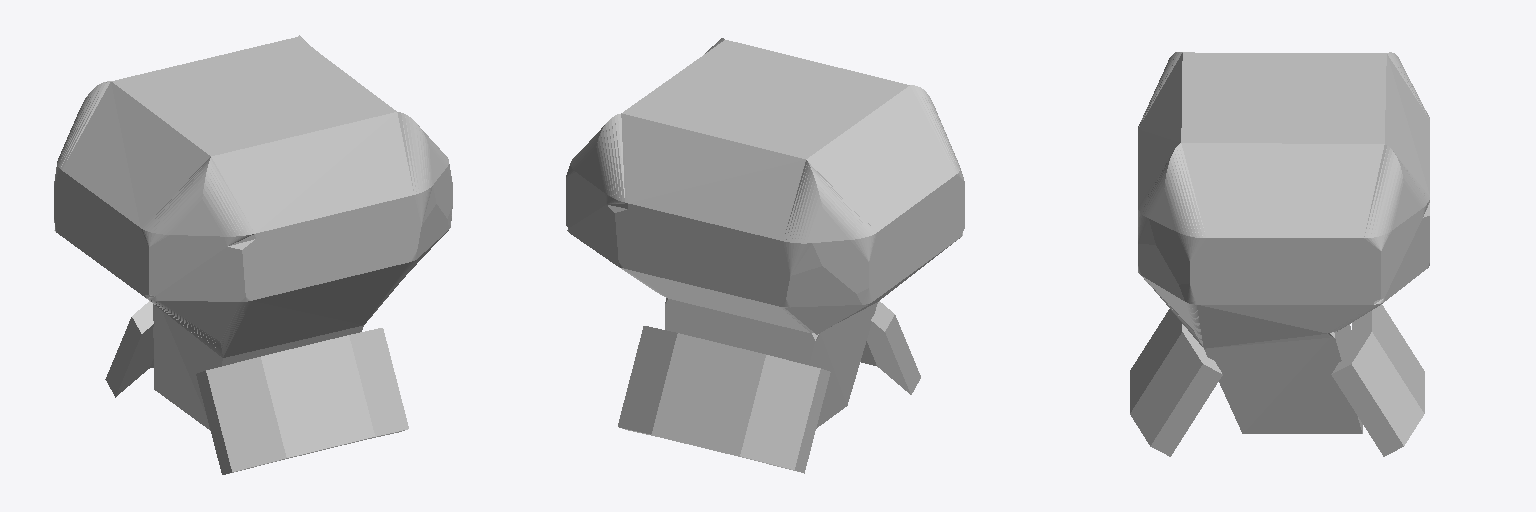
The model's file is robotBody_high.obj.
3 renders of one model, left to right at view 1: azimuth 30°, elevation 25°; view 2: azimuth 150°, elevation 25°; view 3: azimuth 270°, elevation 25°, orthographic.
Visible parts, largest first — view 1: robotBody2:pCube4; view 2: robotBody2:pCube4; view 3: robotBody2:pCube4.
Boxes of the visible parts, <box> form: robotBody2:pCube4: <box>54,35,452,474</box>; robotBody2:pCube4: <box>566,38,964,473</box>; robotBody2:pCube4: <box>1130,52,1429,456</box>.
Size of the model in its own units: 1.2 by 1.19 by 1.03.